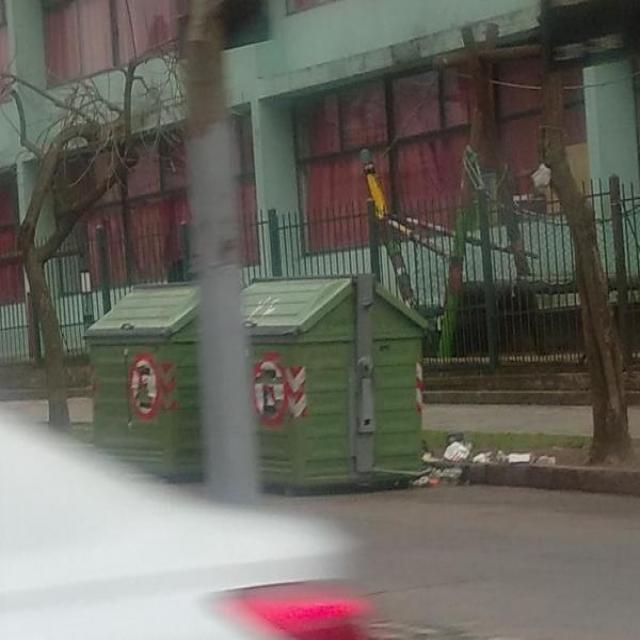garbage: (426, 425, 586, 499)
